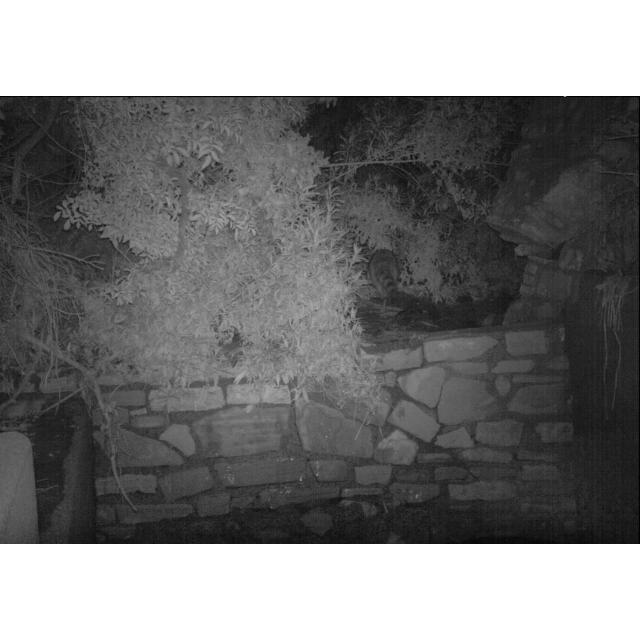animals: (367, 244, 408, 306)
